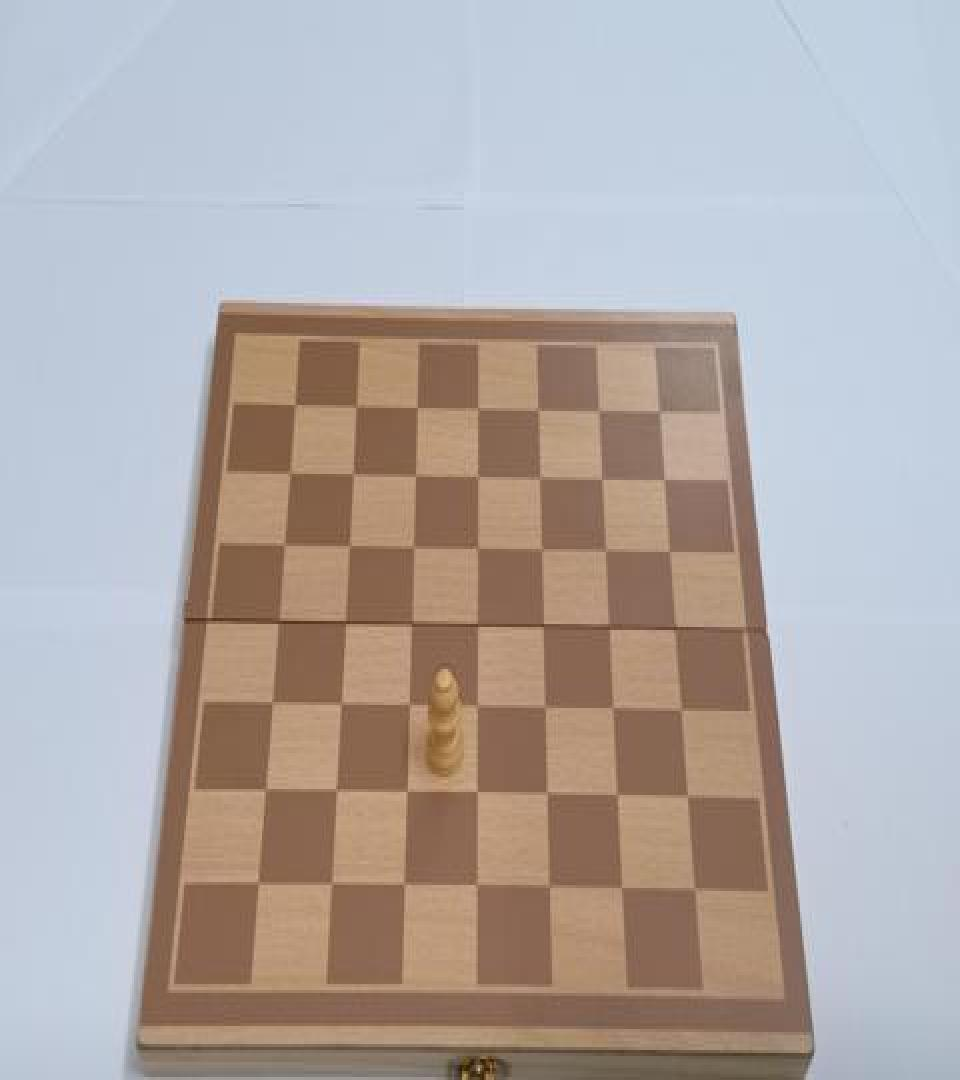xcorner: (287, 394, 305, 422), (348, 394, 366, 422), (654, 466, 672, 494), (671, 694, 689, 722), (282, 462, 300, 489), (276, 534, 294, 561), (270, 610, 288, 637), (257, 778, 275, 805), (249, 870, 267, 897), (341, 534, 359, 561), (336, 610, 354, 637), (327, 778, 345, 805), (322, 870, 340, 897), (409, 396, 427, 423), (403, 612, 421, 639), (400, 693, 418, 720), (398, 778, 416, 805), (395, 870, 413, 897), (469, 396, 487, 423), (468, 612, 486, 639), (468, 693, 486, 720), (468, 778, 486, 805), (468, 870, 486, 897), (529, 397, 547, 424), (531, 465, 549, 492), (533, 537, 551, 564), (534, 612, 552, 639), (536, 693, 554, 720), (538, 778, 556, 805), (590, 397, 608, 424), (593, 465, 611, 492), (596, 537, 614, 564), (604, 693, 622, 720), (608, 780, 626, 807), (650, 399, 668, 426), (660, 537, 678, 564), (677, 780, 695, 807), (264, 692, 282, 718), (344, 464, 362, 490), (332, 692, 350, 718), (407, 464, 425, 490), (405, 536, 423, 562), (469, 464, 487, 490), (469, 536, 487, 562), (540, 872, 558, 898), (600, 614, 618, 640), (612, 872, 630, 898), (665, 614, 683, 640), (684, 872, 702, 898)
